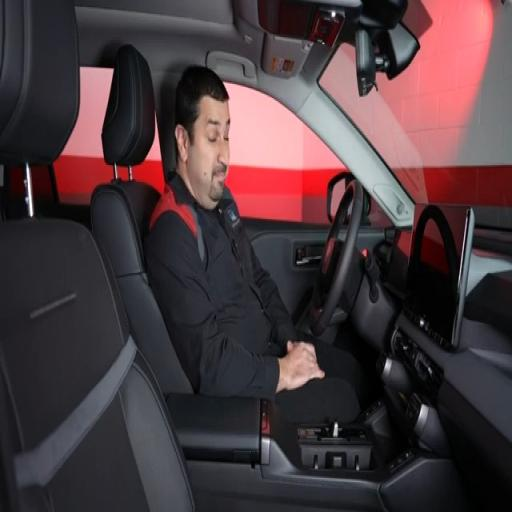side_mirror: (376, 23, 419, 79), (327, 171, 354, 223), (356, 29, 375, 96)
window: (227, 83, 345, 224)
windshield: (320, 0, 511, 209)
